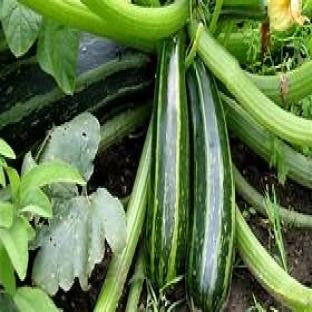Zucchini: (0, 37, 153, 153), (199, 30, 311, 145), (187, 59, 235, 311), (146, 35, 189, 288), (221, 94, 311, 187), (237, 208, 311, 311)
